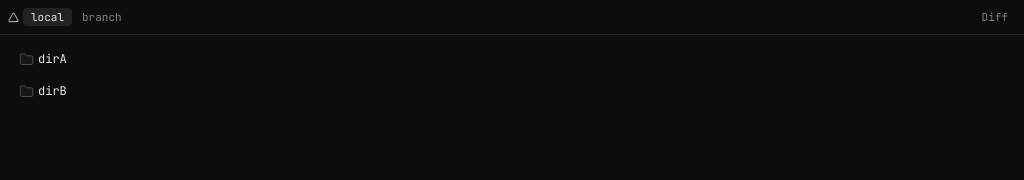
Test case: FileTreeSidebar — children-loading effect does not amplify refetches › expanding a second directory does not re-fetch the first, already-expanded directory
The image size is (1024, 180).
Expected: the text "dirA" is shown, 38,51 -> 67,67
Expected: the text "dirB" is shown, 38,83 -> 67,99
Click the list item "dirA" at {"x": 43, "y": 59}, box 18,51 -> 67,67
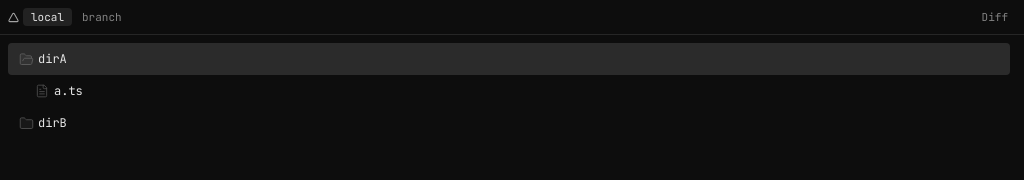
Now the text "a.ts" is shown, box 54,83 -> 83,99
Click the list item "dirB" at {"x": 43, "y": 123}, box 18,115 -> 67,131
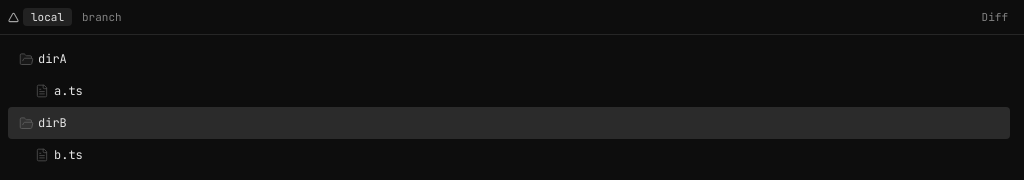
Now the text "b.ts" is shown, box 54,147 -> 83,163
